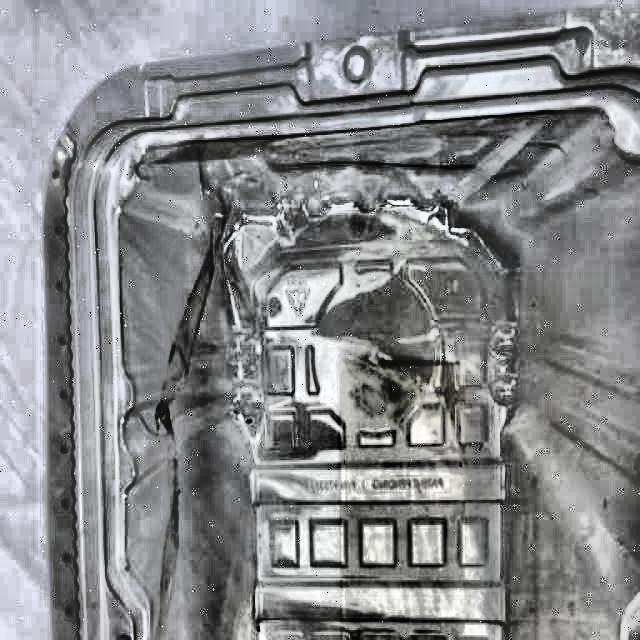plastic: (54, 23, 640, 640)
